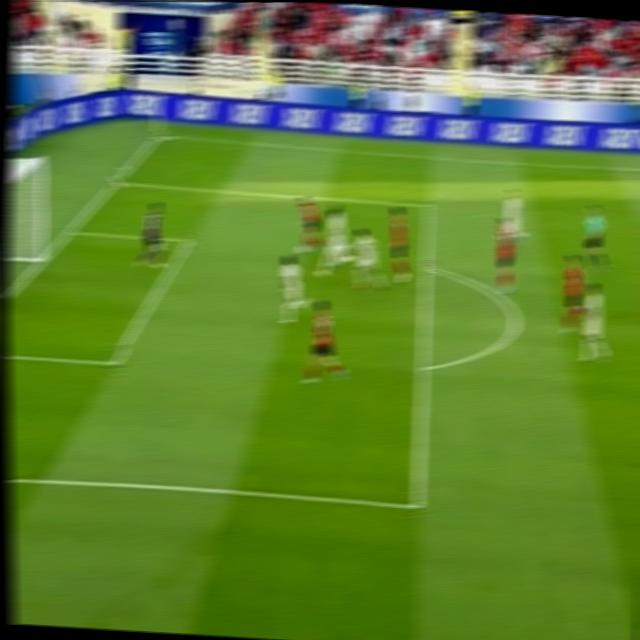bigarea_bottom_inner: (402, 486, 431, 519)
bigarea_top_inner: (422, 196, 437, 211)
bigarea_top_outter: (109, 175, 125, 189)
bottom_arc_area_intersection: (409, 357, 438, 377)
corner: (151, 130, 169, 141)
smallarea_bottom_inner: (101, 343, 127, 378)
smallarea_top_inner: (180, 232, 197, 250)
smallarea_top_outter: (63, 222, 82, 238)
top_arc_area_intersection: (418, 257, 438, 278)
